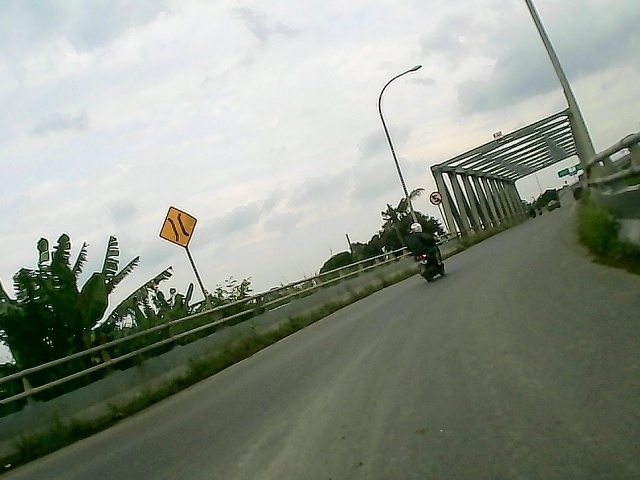Jembatan: (154, 204, 201, 251)
